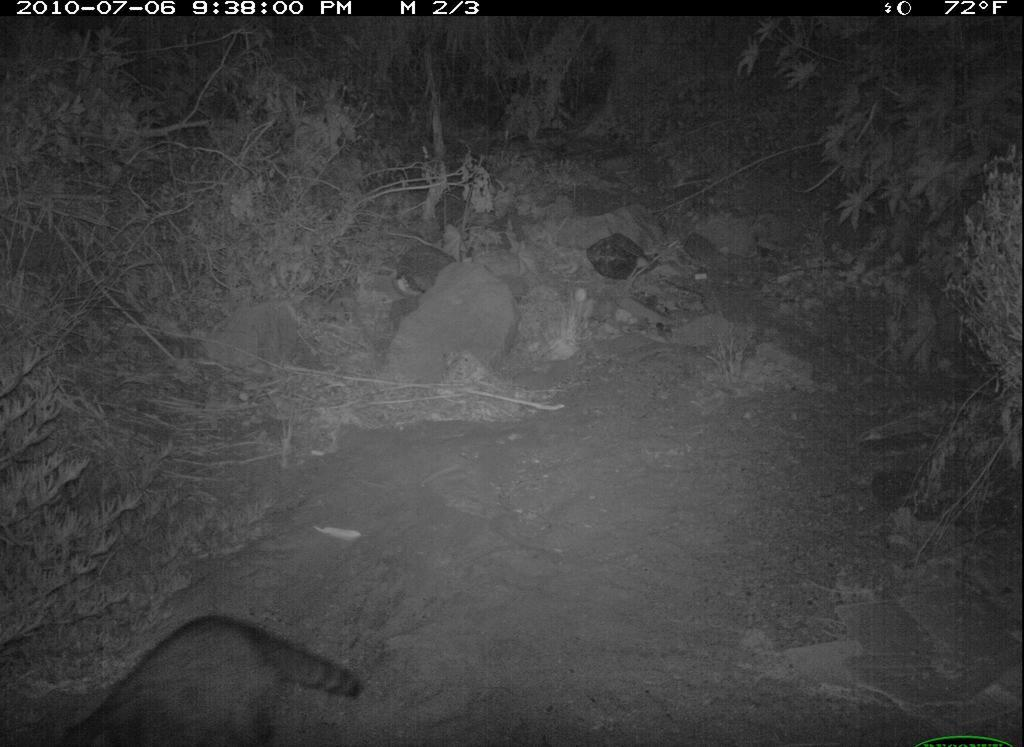raccoon: (56, 605, 365, 747)
